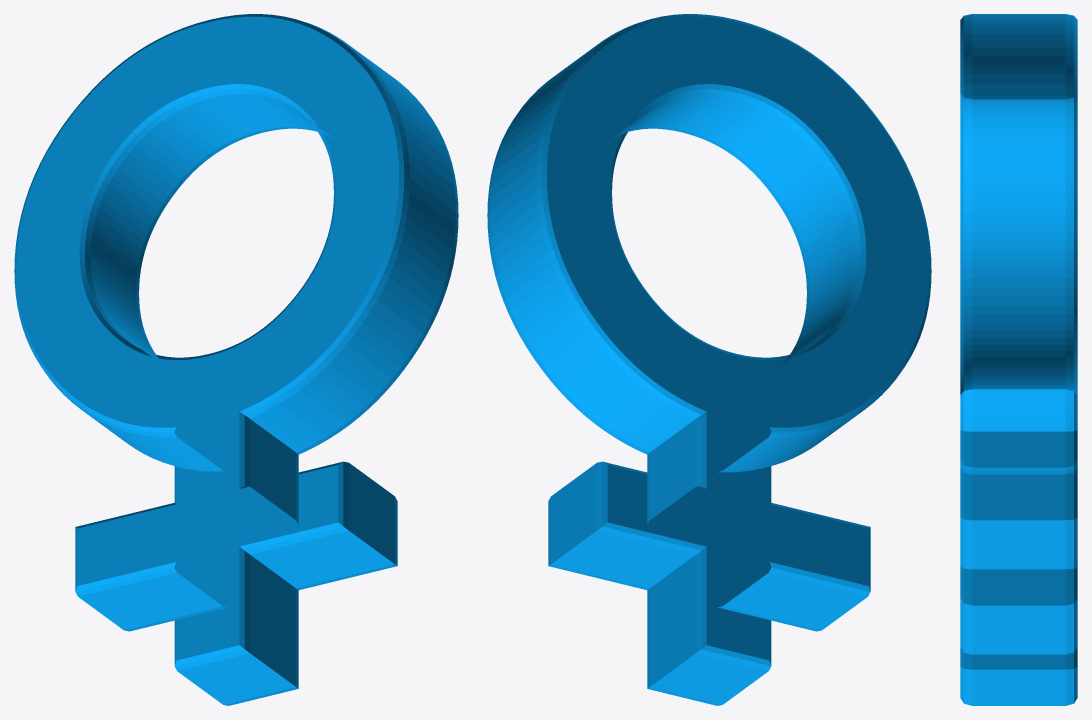
Rendered from glyph_resonance.glb.
3 renders of one model, left to right at view 1: azimuth 30°, elevation 25°; view 2: azimuth 150°, elevation 25°; view 3: azimuth 270°, elevation 25°, orthographic.
Bounding box in the file's own units: 39.43 × 61.47 × 10.
